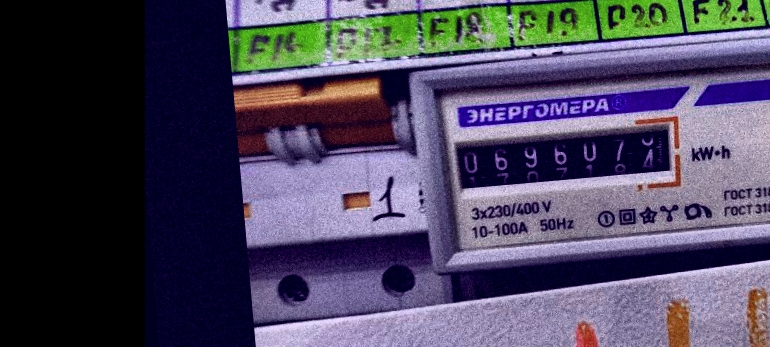0: (461, 148, 481, 174), (581, 136, 598, 162)
4: (639, 146, 657, 171)
6: (491, 146, 510, 171), (551, 140, 570, 165)
7: (611, 136, 628, 163)
9: (521, 143, 539, 169)
screen: (441, 109, 688, 203)
